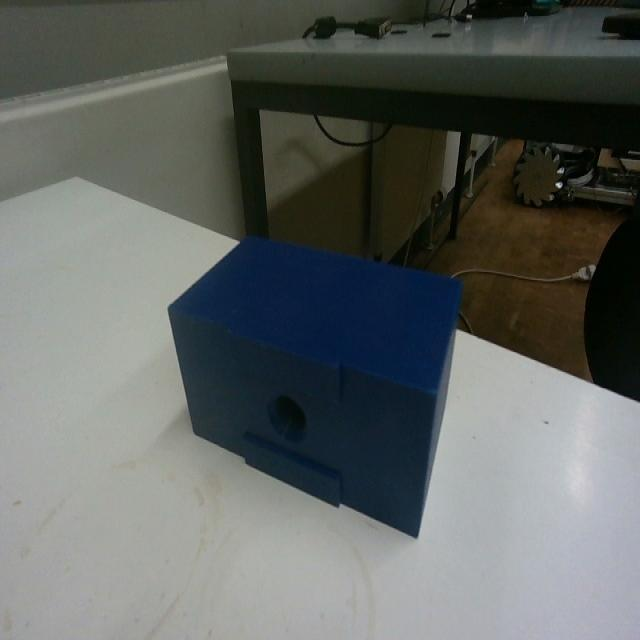Blue Cuboid: (165, 229, 464, 539)
